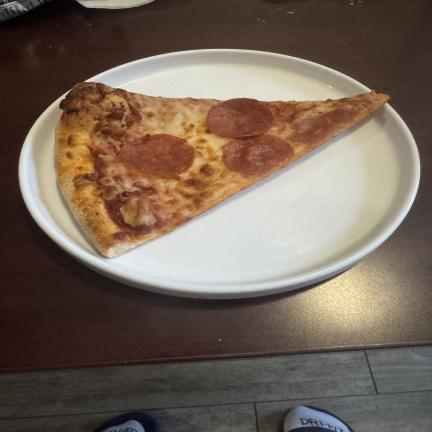pizza: (56, 83, 388, 257)
plate: (20, 99, 419, 298)
